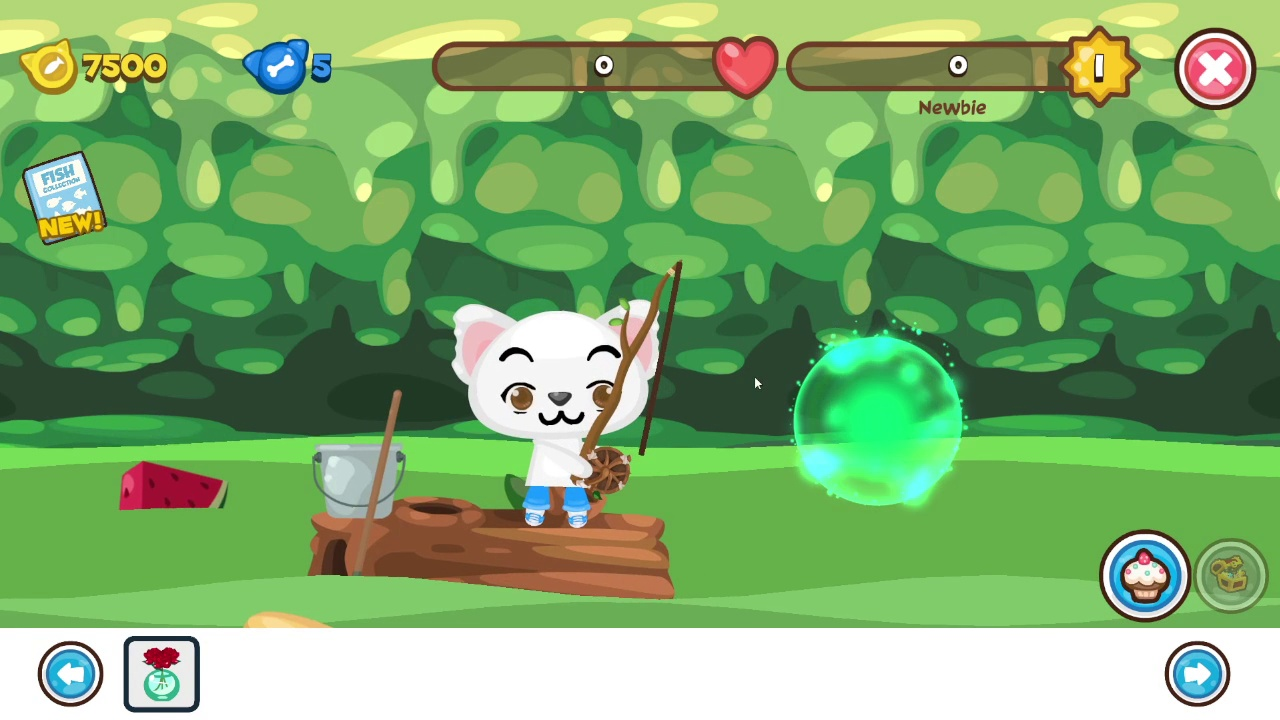point: (791, 334, 964, 511)
